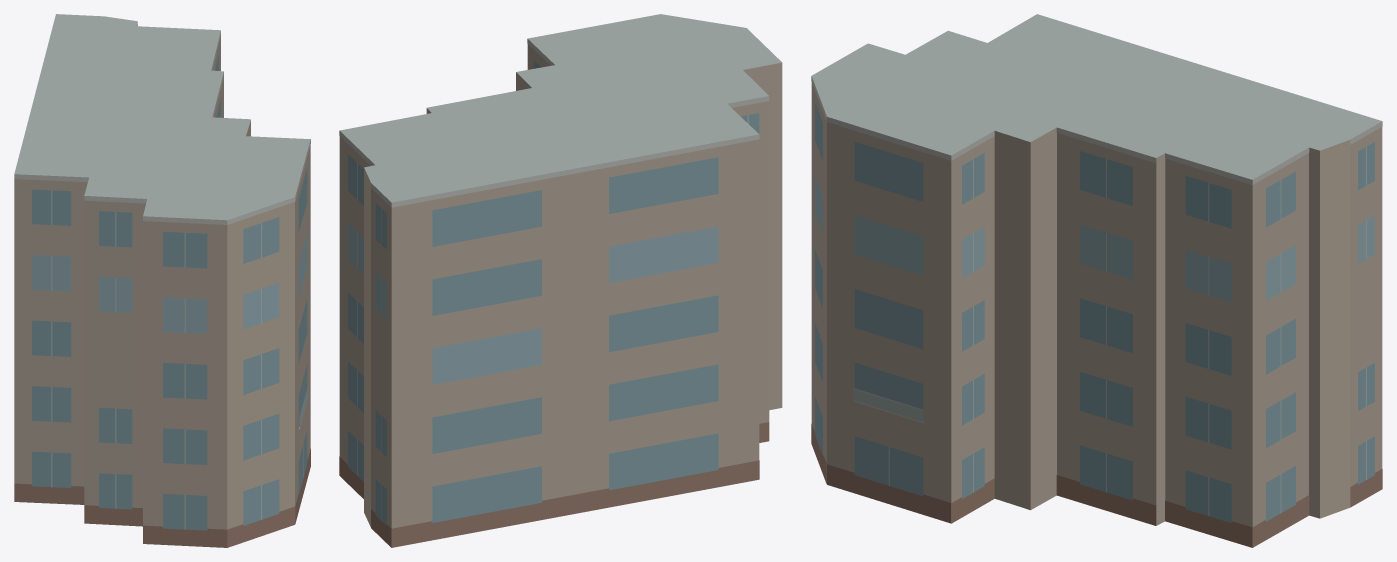
Rendered from survey-upis-32727395.glb.
3 views of the same model, side by side, from view 1: azimuth 30°, elevation 25°; view 2: azimuth 150°, elevation 25°; view 3: azimuth 270°, elevation 25° (orthographic). The views are drawn at different scales.
Parts seen in each view (by area): view 1: survey-upis-32727395.tmp; view 2: survey-upis-32727395.tmp; view 3: survey-upis-32727395.tmp.
Part boxes in pixels (x1,y1,x2,y2): survey-upis-32727395.tmp: (14, 14, 310, 547); survey-upis-32727395.tmp: (339, 14, 782, 547); survey-upis-32727395.tmp: (811, 14, 1382, 547).
Bounding box in the file's own units: 16.25 × 16.8 × 23.63.
